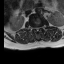CCS_normal: (36, 24, 38, 33)
LFS_severe_stenosis: (40, 24, 42, 30)
LLS_stenosis: (38, 24, 40, 31)
RFS_stenosis: (32, 24, 34, 31)
RLS_normal: (34, 24, 36, 31)
